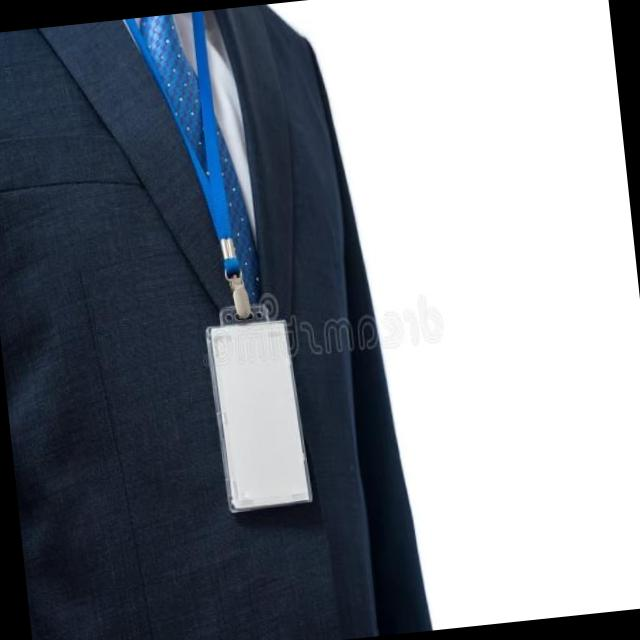id_card: (128, 3, 334, 522)
